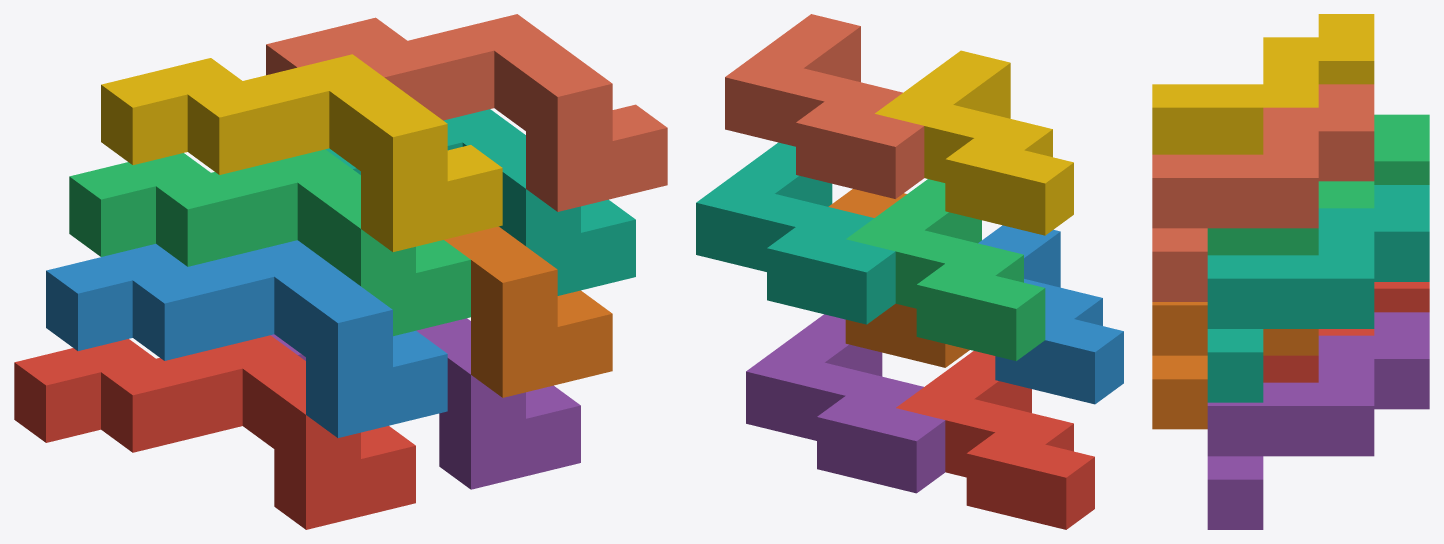
Rendered from tiling.obj.
The picture shows the model from 3 angles, left to right: view 1: azimuth 30°, elevation 25°; view 2: azimuth 150°, elevation 25°; view 3: azimuth 270°, elevation 25°; orthographic projection. The views are drawn at different scales.
Parts seen in each view (by area): view 1: copy_1_domain_2, copy_1_domain_4, copy_1_domain_1, copy_1_domain_3, copy_1_domain_8, copy_1_domain_6, copy_1_domain_5, copy_1_domain_7; view 2: copy_1_domain_8, copy_1_domain_7, copy_1_domain_5, copy_1_domain_4, copy_1_domain_3, copy_1_domain_1, copy_1_domain_2, copy_1_domain_6; view 3: copy_1_domain_8, copy_1_domain_7, copy_1_domain_5, copy_1_domain_4, copy_1_domain_3, copy_1_domain_6, copy_1_domain_1.
Boxes of the visible parts, left/top/right/bottom form: copy_1_domain_2: left=46, top=240, right=447, bottom=437; copy_1_domain_4: left=101, top=54, right=502, bottom=251; copy_1_domain_1: left=14, top=335, right=415, bottom=529; copy_1_domain_3: left=69, top=149, right=470, bottom=336; copy_1_domain_8: left=266, top=14, right=667, bottom=211; copy_1_domain_6: left=444, top=226, right=612, bottom=397; copy_1_domain_5: left=270, top=318, right=580, bottom=489; copy_1_domain_7: left=326, top=109, right=635, bottom=295; copy_1_domain_8: left=725, top=14, right=924, bottom=198; copy_1_domain_7: left=696, top=142, right=895, bottom=324; copy_1_domain_5: left=746, top=314, right=945, bottom=493; copy_1_domain_4: left=875, top=50, right=1073, bottom=235; copy_1_domain_3: left=846, top=179, right=1045, bottom=360; copy_1_domain_1: left=896, top=351, right=1094, bottom=529; copy_1_domain_2: left=978, top=225, right=1123, bottom=404; copy_1_domain_6: left=828, top=189, right=969, bottom=367; copy_1_domain_8: left=1152, top=84, right=1374, bottom=301; copy_1_domain_7: left=1207, top=185, right=1429, bottom=402; copy_1_domain_5: left=1207, top=312, right=1429, bottom=529; copy_1_domain_4: left=1152, top=14, right=1374, bottom=154; copy_1_domain_3: left=1207, top=114, right=1429, bottom=255; copy_1_domain_6: left=1152, top=302, right=1318, bottom=429; copy_1_domain_1: left=1263, top=282, right=1429, bottom=382.
Bounding box in the file's own units: 9 × 7 × 5.
